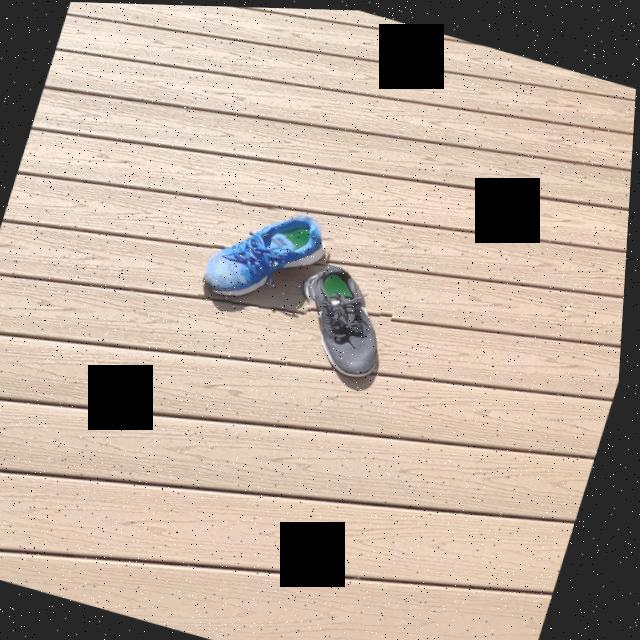shoe: (205, 216, 330, 300), (312, 263, 383, 364)
